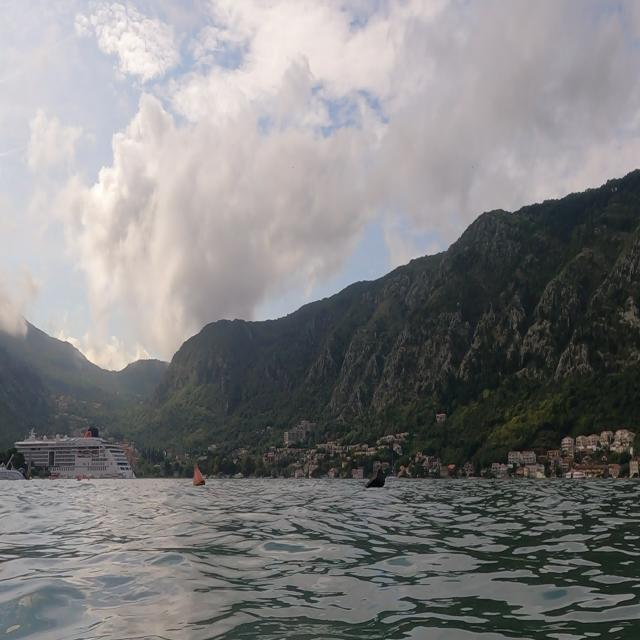boat: (15, 424, 140, 489)
buoy: (358, 456, 391, 496), (188, 459, 212, 490)
